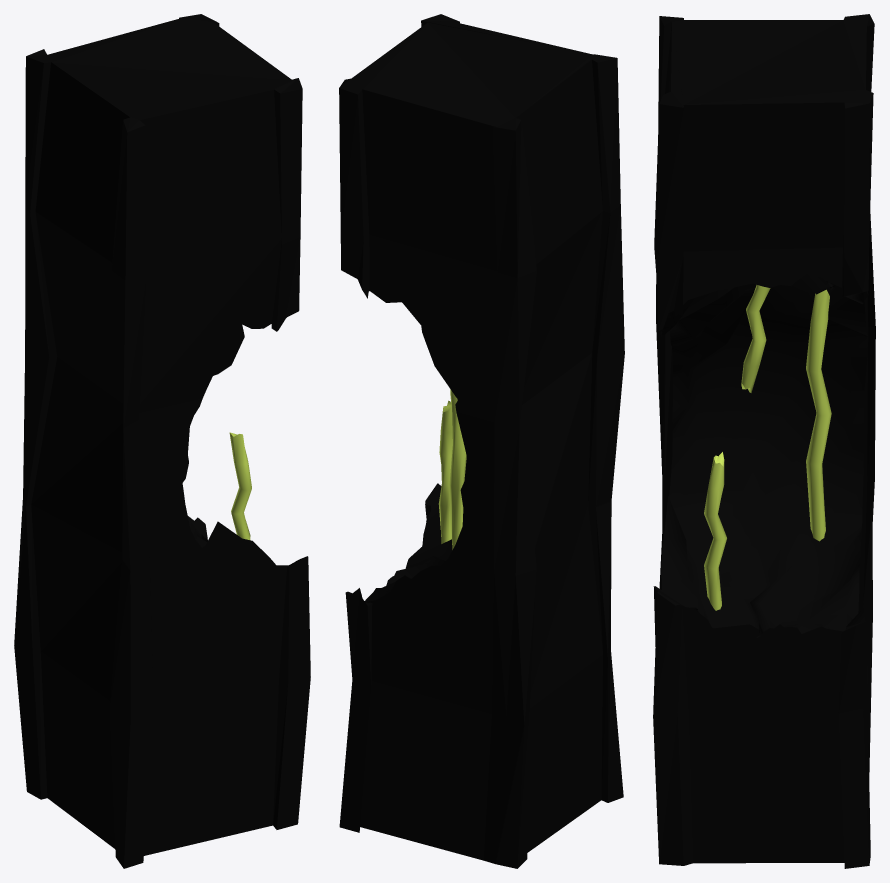
File: broken_column.fbx
3 renders of one model, left to right at view 1: azimuth 30°, elevation 25°; view 2: azimuth 150°, elevation 25°; view 3: azimuth 270°, elevation 25°, orthographic. The views are drawn at different scales.
Visible parts, largest first — view 1: Box023; view 2: Box023; view 3: Box023.
Part boxes in pixels (bbox=[...]): Box023: bbox=[14, 14, 310, 868]; Box023: bbox=[339, 14, 624, 868]; Box023: bbox=[653, 14, 875, 868].
Size of the model in its own units: 55.25 by 52.96 by 201.
